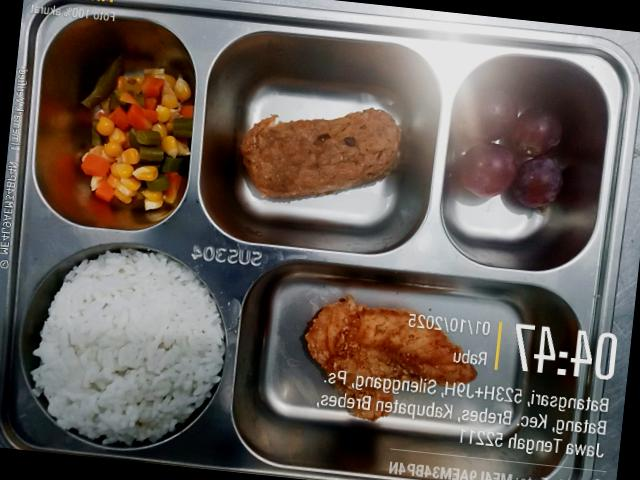ayam: (305, 295, 477, 421)
buah: (457, 143, 517, 198)
nasi: (31, 250, 225, 445)
sayur: (82, 54, 124, 108)
tempe: (241, 109, 401, 197)
